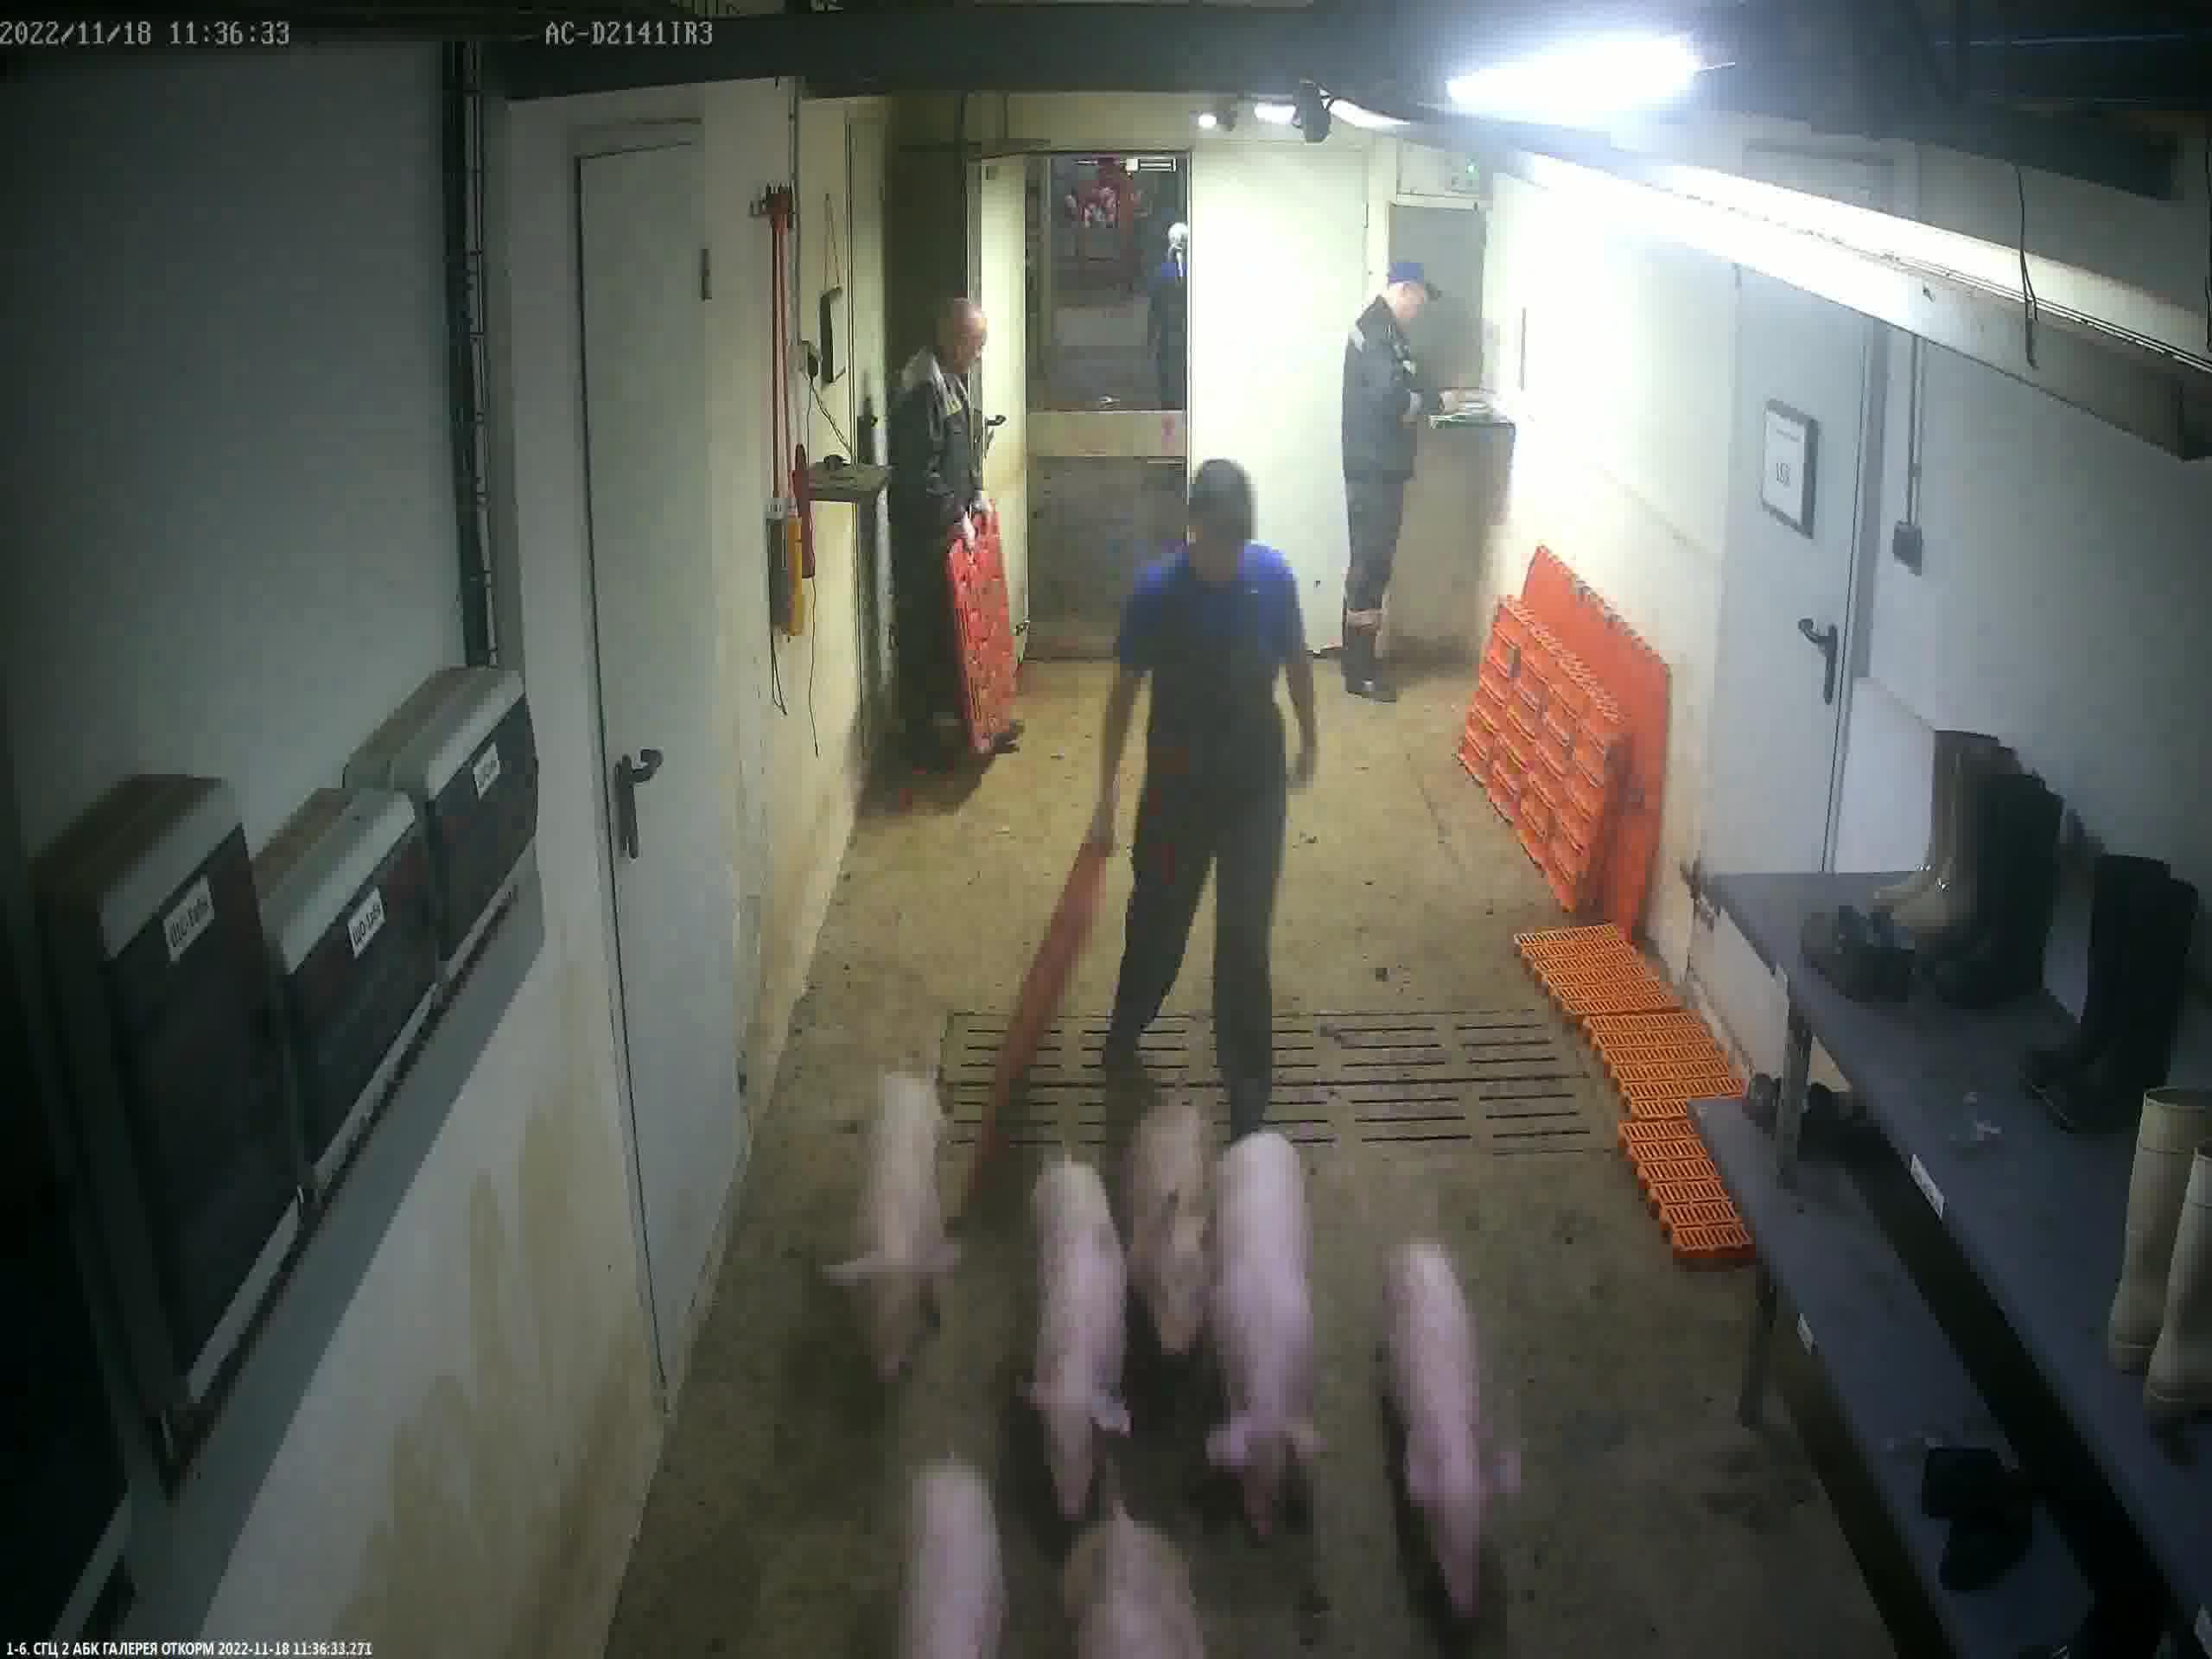Pigs: (1390, 1246, 1519, 1617), (1216, 1138, 1318, 1539), (829, 1079, 956, 1394), (1031, 1159, 1129, 1542), (1132, 1100, 1237, 1363), (900, 1462, 1005, 1659), (1078, 1507, 1207, 1659)
